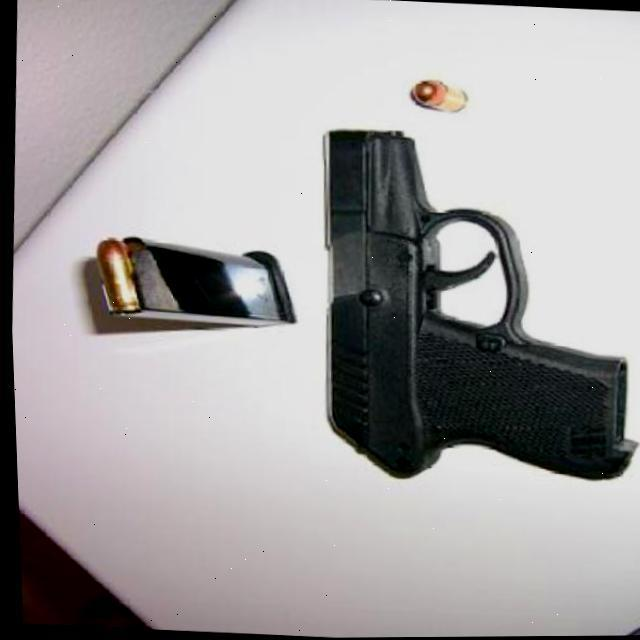gun: (301, 128, 640, 492)
